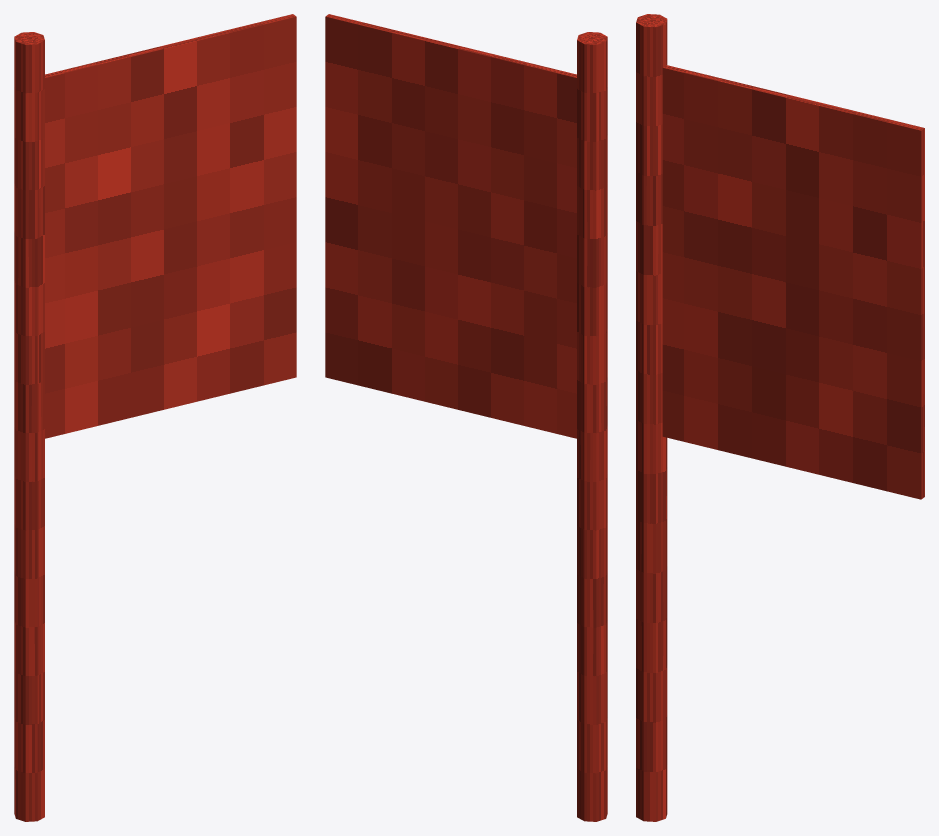
File: banner_38.glb
3 views of the same model, side by side, from view 1: azimuth 30°, elevation 25°; view 2: azimuth 150°, elevation 25°; view 3: azimuth 330°, elevation 25° (orthographic). The views are drawn at different scales.
Visible parts, largest first — view 1: Cloth, Pole; view 2: Cloth, Pole; view 3: Cloth, Pole.
Part boxes in pixels (x1,y1,x2,y2): Cloth: [45, 14, 296, 438]; Pole: [14, 32, 44, 821]; Cloth: [325, 14, 576, 438]; Pole: [577, 32, 607, 821]; Cloth: [662, 65, 924, 499]; Pole: [636, 14, 667, 821].
Bounding box in the file's own units: 1.12 × 2.97 × 0.11.
Materials: 1 (1 with a texture image).
